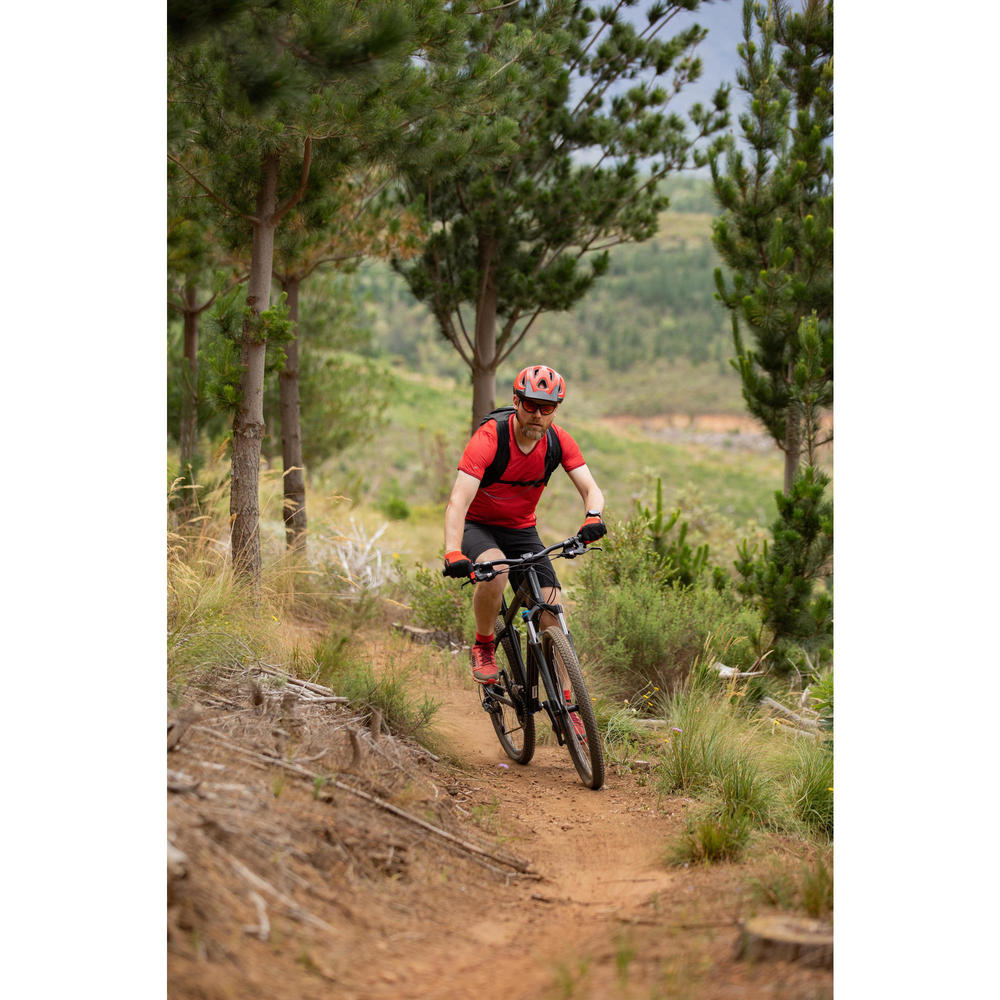MountainBike: (447, 528, 613, 793)
